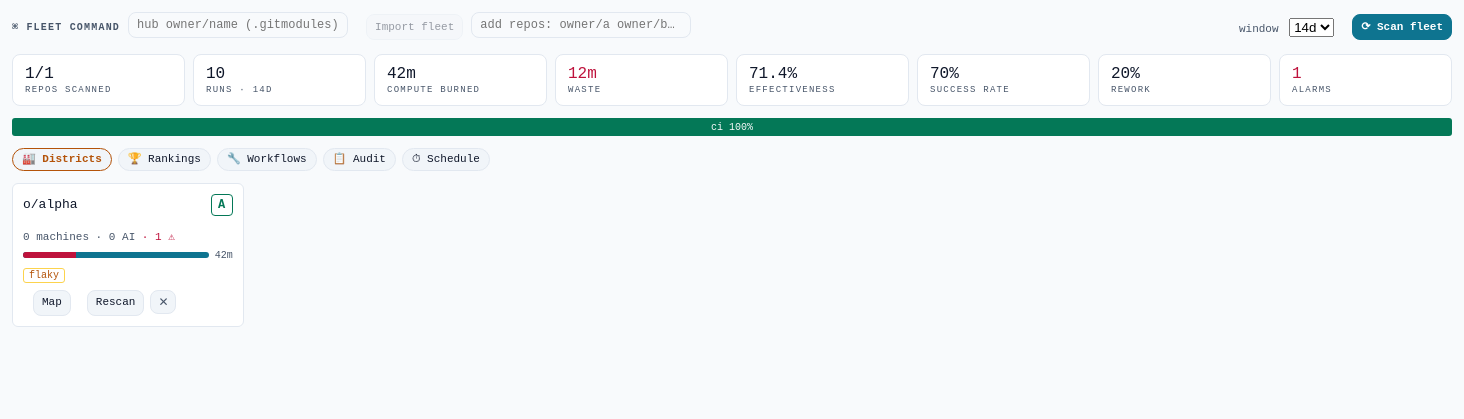
FleetOpsPanel › reports an unreadable kill switch as unknown, never as disarmed
Click the button "⏱ Schedule": point(446, 159) [402,148,490,170]
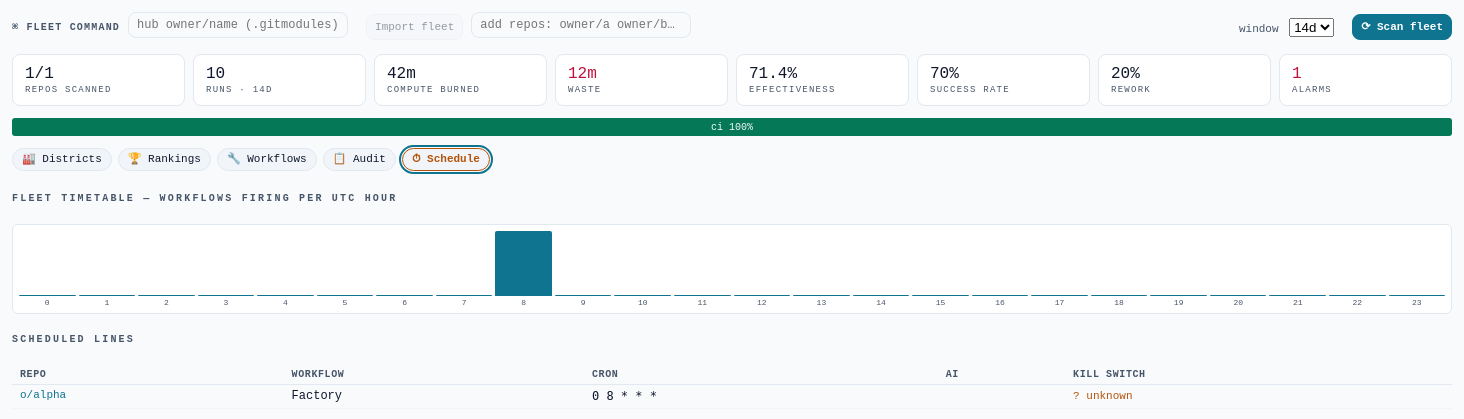
Now the text "? unknown" is shown, box [1073,390,1132,402]
